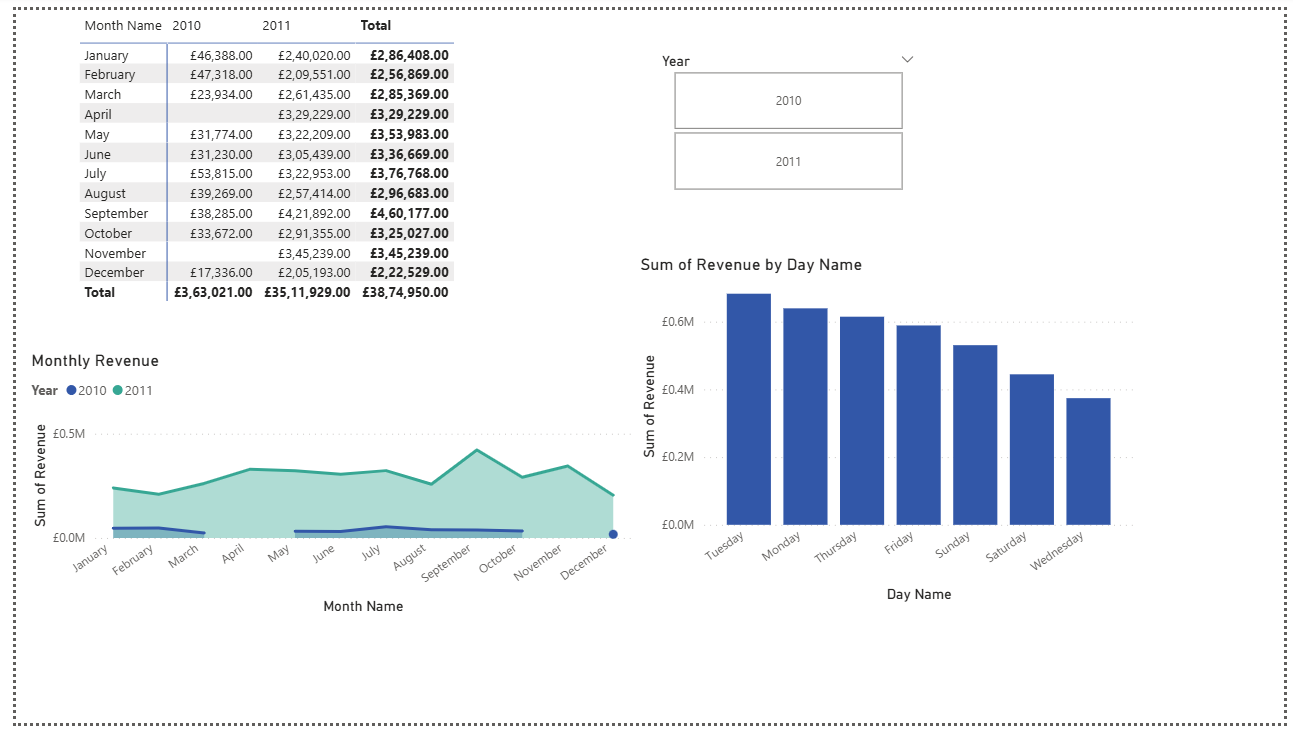

This screenshot's page, from the dashboard's own definition file:
{"tool":"powerbi","page":{"name":"Sales Trends","canvas":[1280,720],"ordinal":1},"visuals":[{"type":"areaChart","title":"Monthly Revenue","fields":{"Category":["data.Month Name"],"Y":["Sum(data.Revenue)"],"Series":["data.Year"]},"box":[10,344.3,615.7,270],"z":0},{"type":"clusteredColumnChart","fields":{"Category":["data.Day Name"],"Y":["Sum(data.Revenue)"]},"box":[625.7,247.1,508.6,355.7],"z":1000},{"type":"slicer","fields":{"Values":["data.Year"]},"box":[640,37.1,280,150],"z":2000},{"type":"pivotTable","fields":{"Rows":["data.Month Name"],"Columns":["data.Year"],"Values":["Sum(data.Revenue)"]},"box":[58.6,0,567.1,325.7],"z":3000}]}

Visuals, with their boxes in screenshot pixels (x1, y1, x2, y2), scaled from the page's 1280x720 canvas onto the 1293x732 screenshot:
"Monthly Revenue" areaChart: BBox(10, 350, 632, 625)
clusteredColumnChart - data.Day Name x Sum(data.Revenue): BBox(632, 251, 1146, 613)
slicer - data.Year: BBox(646, 38, 929, 190)
pivotTable - data.Month Name x data.Year: BBox(59, 0, 632, 331)
